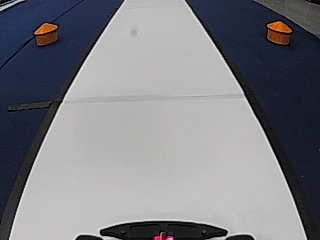granary: (264, 19, 293, 46), (33, 21, 59, 46)
